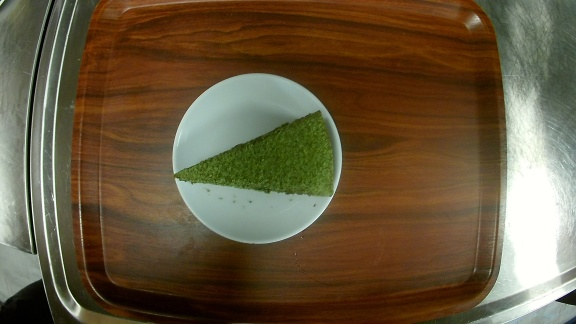fistiklipasta: (172, 73, 343, 245)
